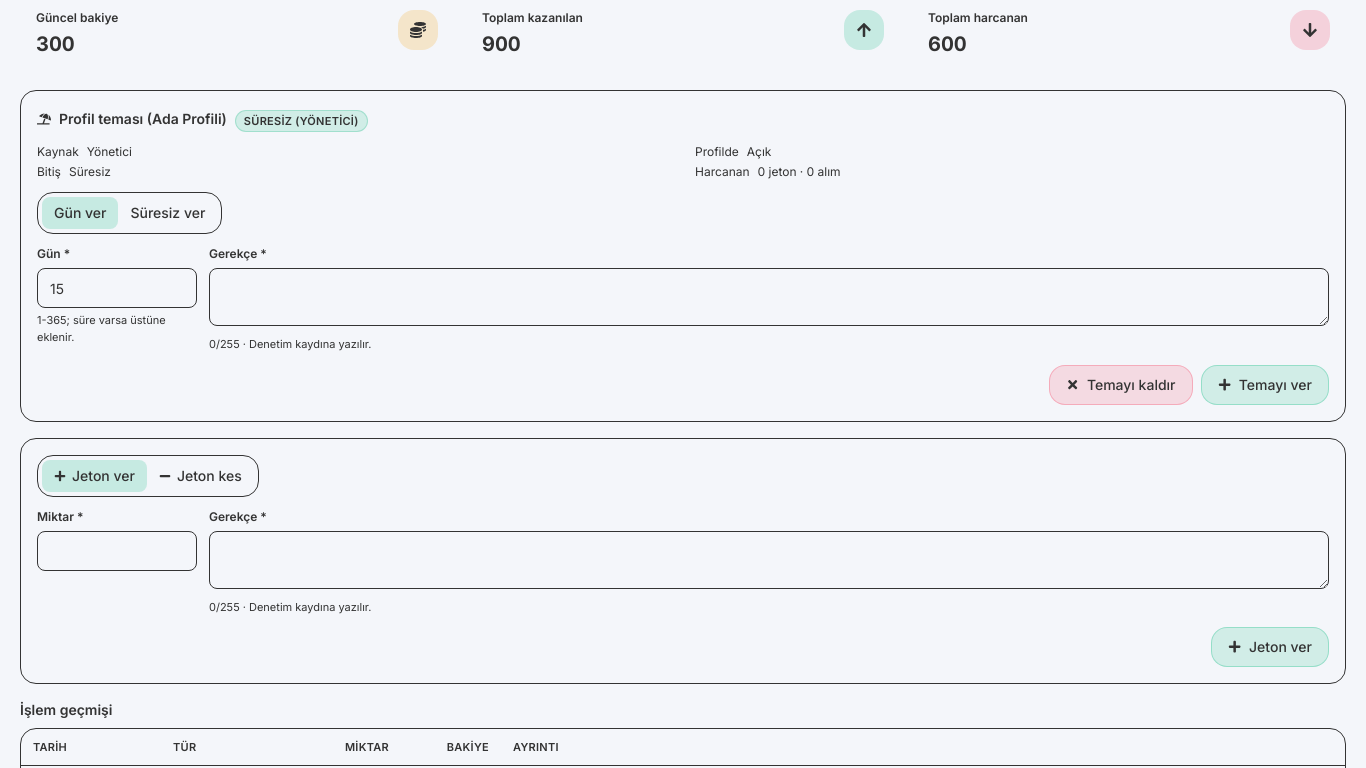
Test case: GameCoins › Profil teması › kaldır: onay penceresi sonrası DELETE atar
This screenshot has width=1366, height=768.
(page scrolled)
Click the button "Temayı kaldır": (1121, 384) [1049,364,1193,404]
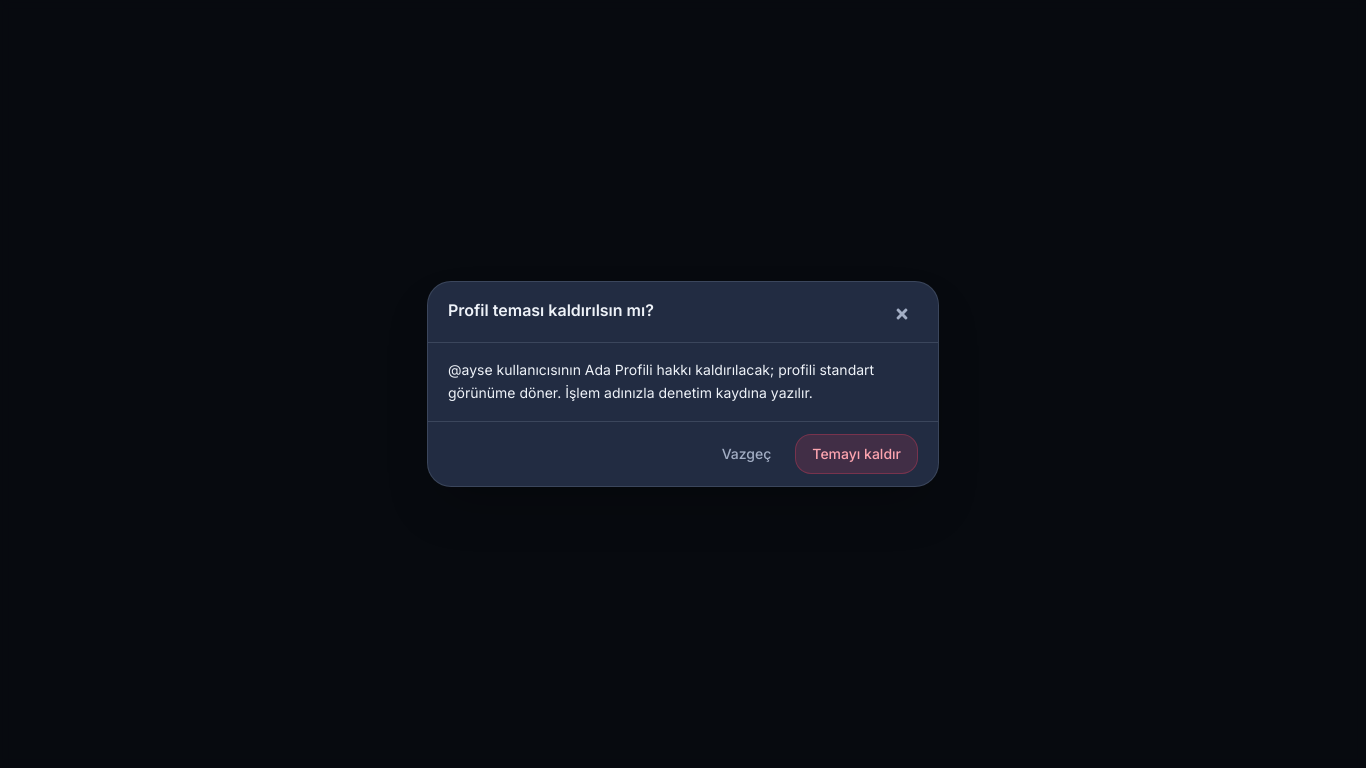
Check: the dialog shows "@ayse kullanıcısının Ada Profili hakkı kaldırılacak", box [448,361,874,401]
Click the button with test id "confirm-button": (857, 454) [795,434,918,474]
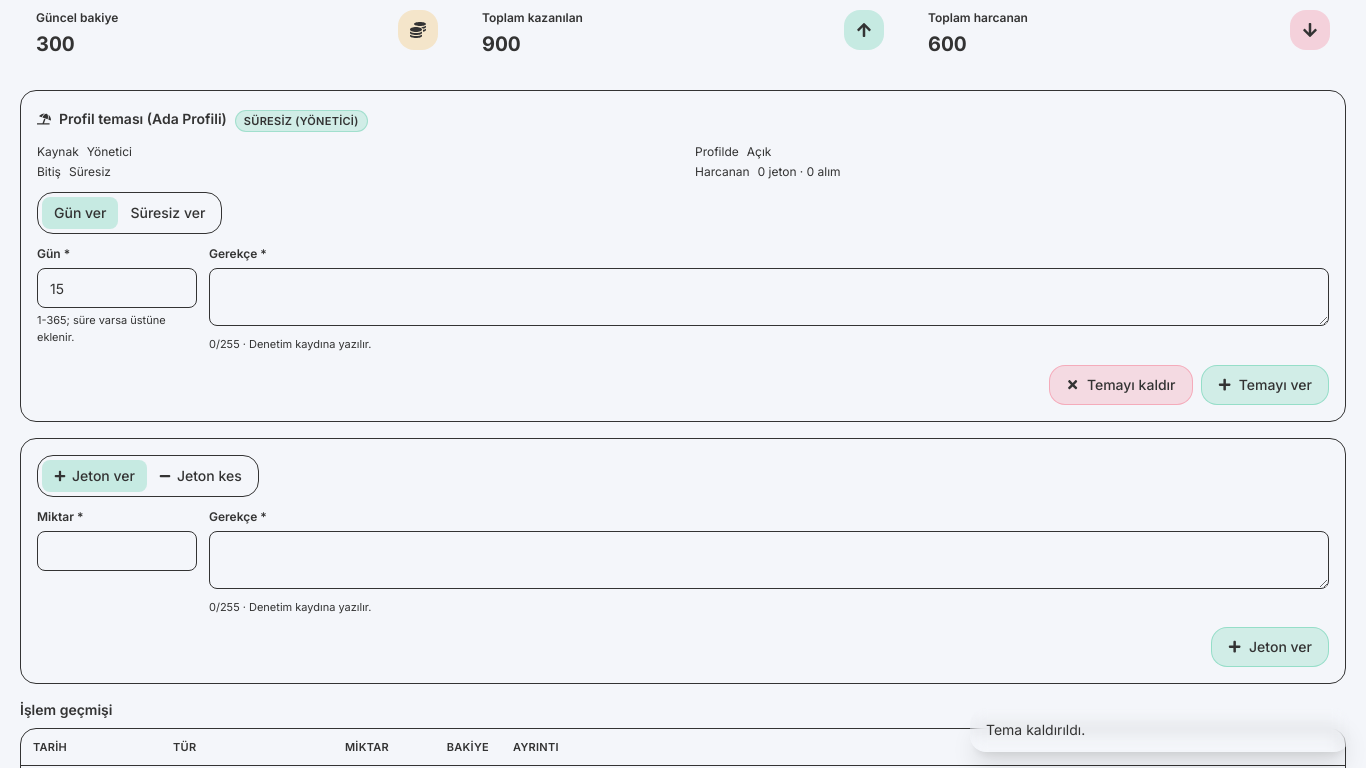
Check: the text "Tema kaldırıldı." is shown, box [970,708,1350,752]
